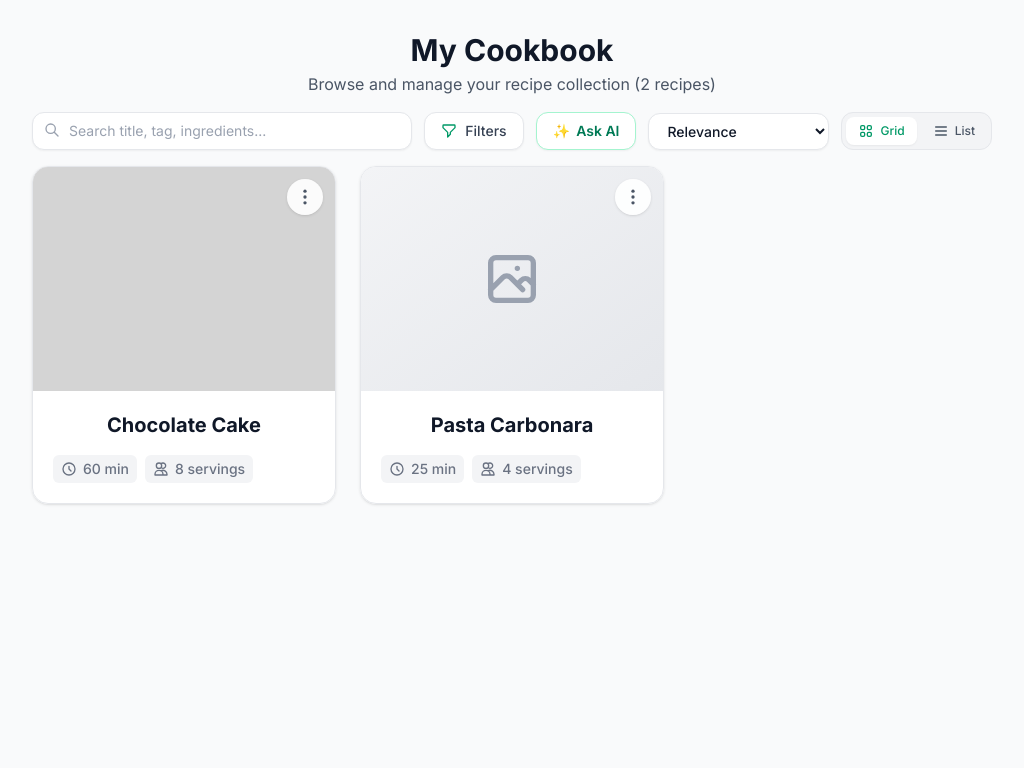
RecipeLibrary › Delete Functionality › should open confirmation modal when delete is clicked
Expected: the heading "Chocolate Cake" is shown, [107,413,261,437]
Click the button with test id "recipe-card-menu-button" at (305, 197), box [287,179,323,215]
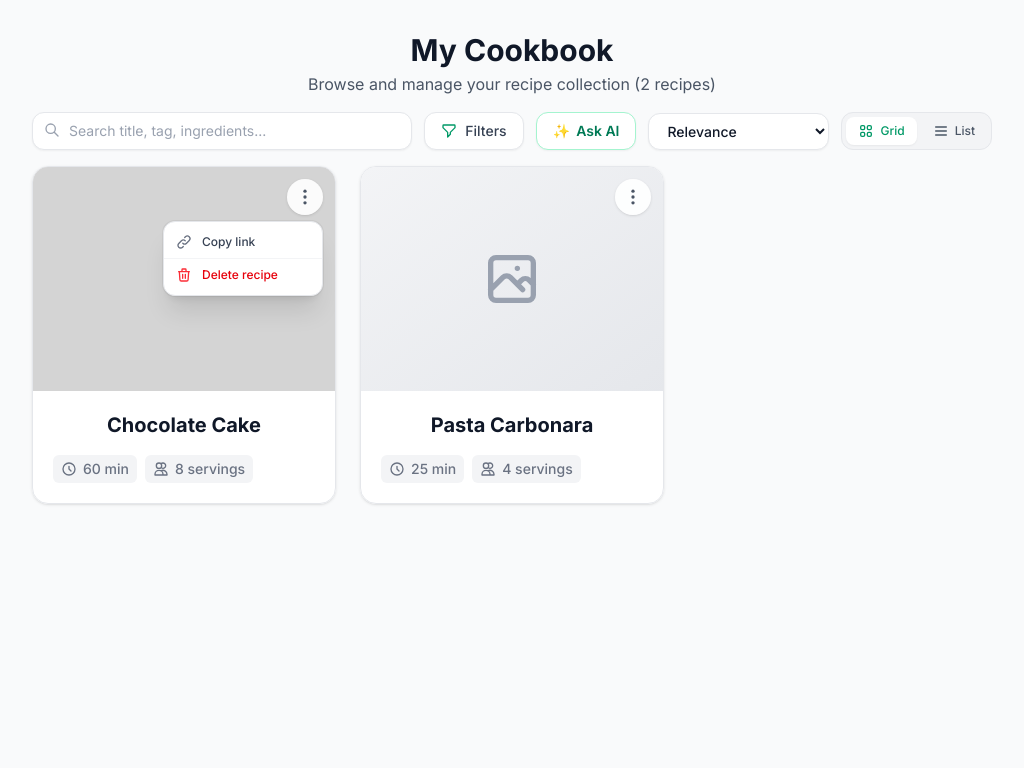
Click the menu item "Delete recipe" at (243, 274), box [164,258,322,291]
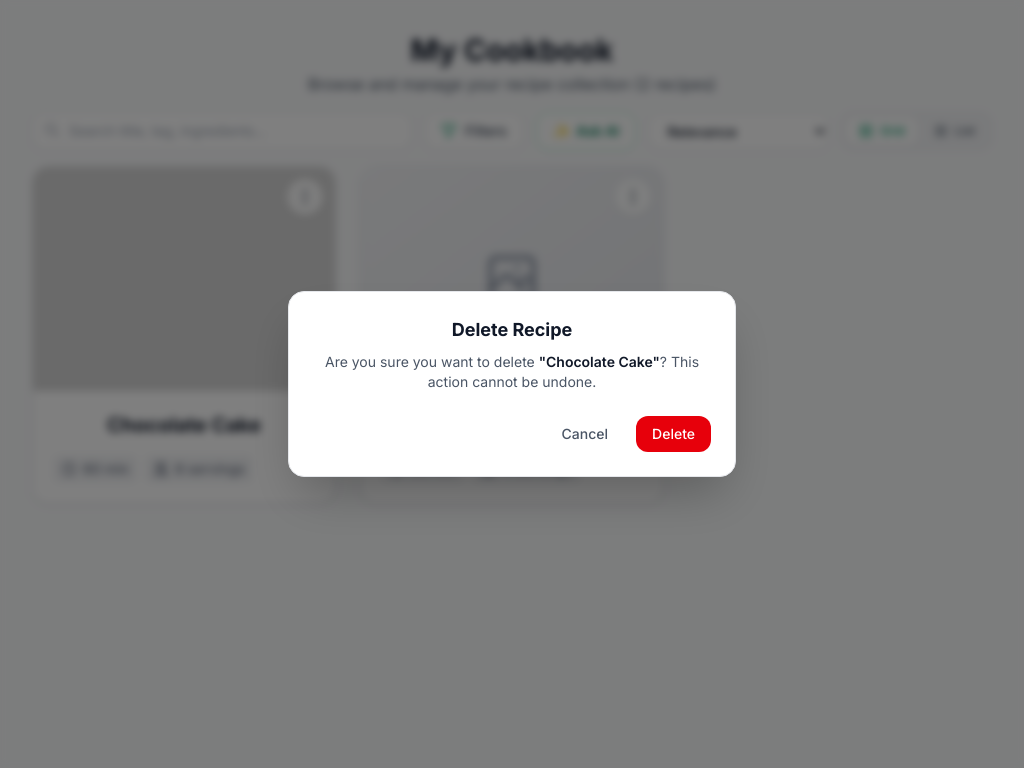
Expected: the heading "Delete Recipe" is shown, [452,319,572,340]
Expected: the text "This action cannot be undone" is shown, [428,353,699,390]
Expected: the text "\"Chocolate Cake\"" is shown, [539,353,660,370]
